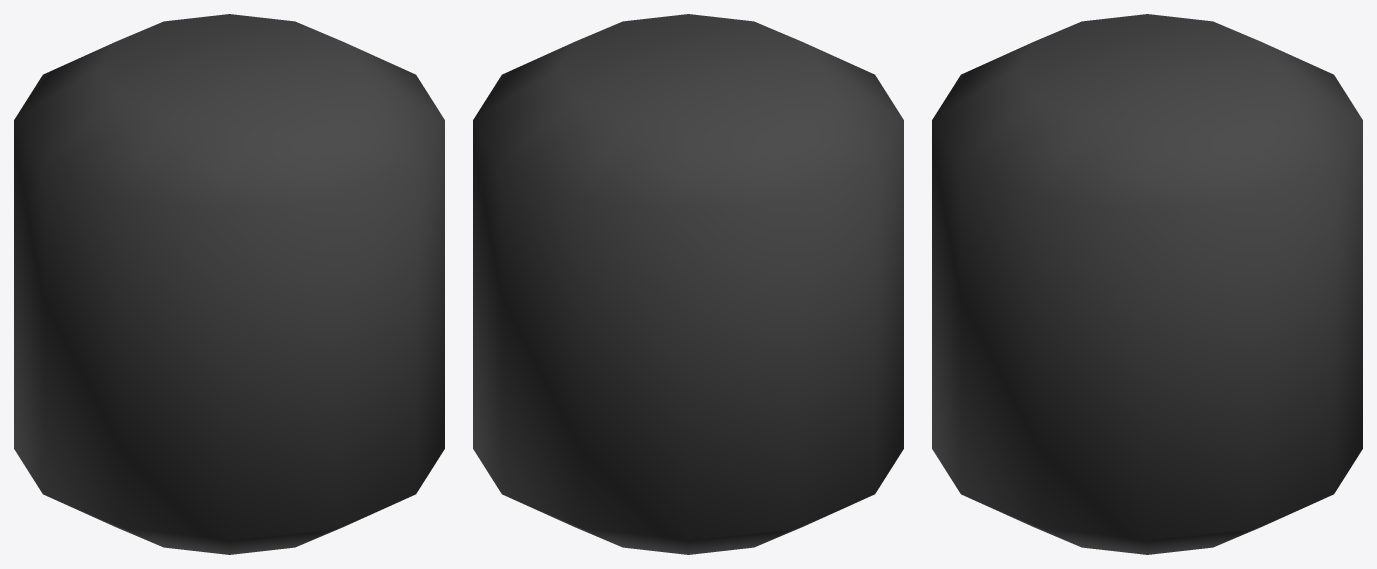
Rendered from anbombbullet.fbx.
3 renders of one model, left to right at view 1: azimuth 30°, elevation 25°; view 2: azimuth 150°, elevation 25°; view 3: azimuth 270°, elevation 25°, orthographic.
Visible parts, largest first — view 1: Bullet; view 2: Bullet; view 3: Bullet.
Part boxes in pixels (left/top/right/bottom): Bullet: left=14, top=14, right=444, bottom=554; Bullet: left=473, top=14, right=903, bottom=554; Bullet: left=932, top=14, right=1362, bottom=554.
Size of the model in its own units: 16.84 by 18.54 by 16.84.
